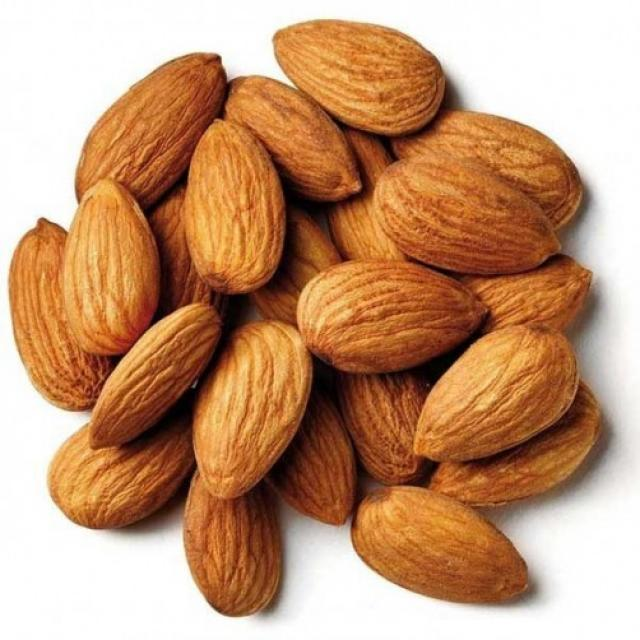almond: (73, 47, 227, 210), (412, 324, 578, 469), (425, 378, 610, 505), (392, 107, 588, 223), (297, 257, 492, 372), (193, 318, 312, 502), (373, 160, 562, 273), (350, 484, 533, 599), (85, 300, 222, 453), (3, 215, 110, 410), (270, 18, 447, 135), (44, 405, 199, 530), (184, 118, 289, 295), (222, 72, 362, 198), (63, 177, 155, 348), (182, 474, 287, 619), (337, 367, 433, 482), (282, 392, 357, 528), (474, 252, 599, 322)
